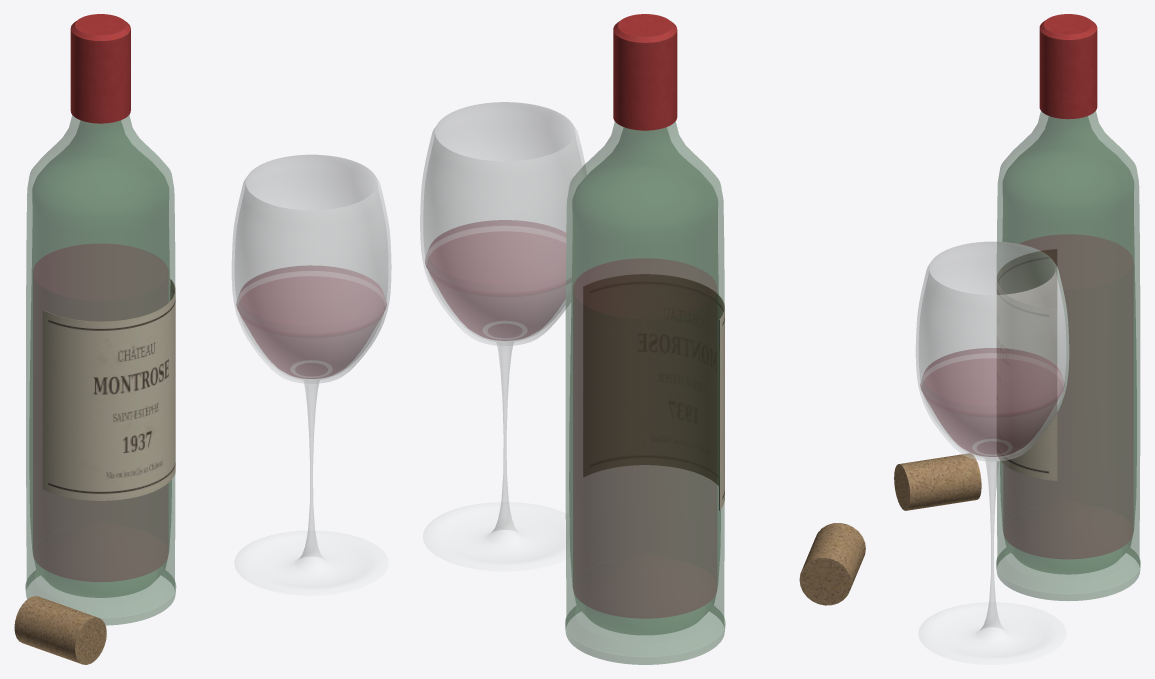
File: wine_and_glass.glb
3 renders of one model, left to right at view 1: azimuth 30°, elevation 25°; view 2: azimuth 150°, elevation 25°; view 3: azimuth 270°, elevation 25°, orthographic. The views are drawn at different scales.
Parts seen in each view (by area): view 1: wine_and_glass; view 2: wine_and_glass; view 3: wine_and_glass.
Boxes of the visible parts, box(x1,y1,x2,y2) form: wine_and_glass: box(14, 14, 391, 664); wine_and_glass: box(420, 14, 865, 664); wine_and_glass: box(894, 14, 1140, 664).
Bounding box in the file's own units: 0.2222 × 0.3177 × 0.1301.
Materials: 5 (1 with a texture image).
